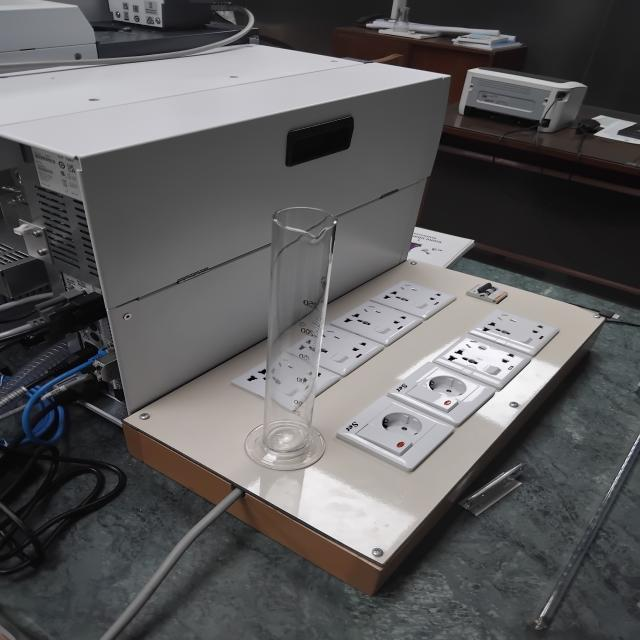Measuring_Cylinder: (219, 175, 379, 488)
